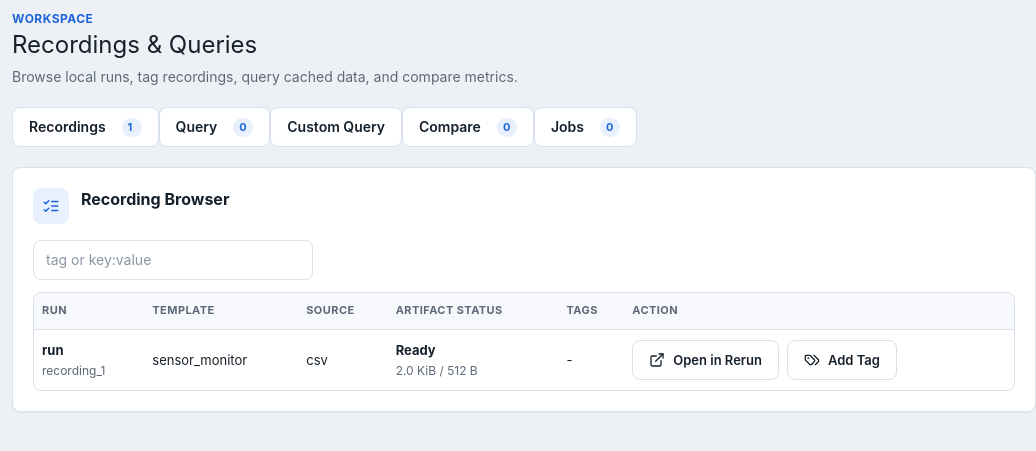
RecordingsQueriesSection › switches between recording, query, compare, and jobs panels
The width and height of the screenshot is (1036, 451).
Expected: the heading "Recording Browser" is shown, [81, 188, 229, 212]
Click the tab "Query 0" at (214,127), box [159, 107, 270, 147]
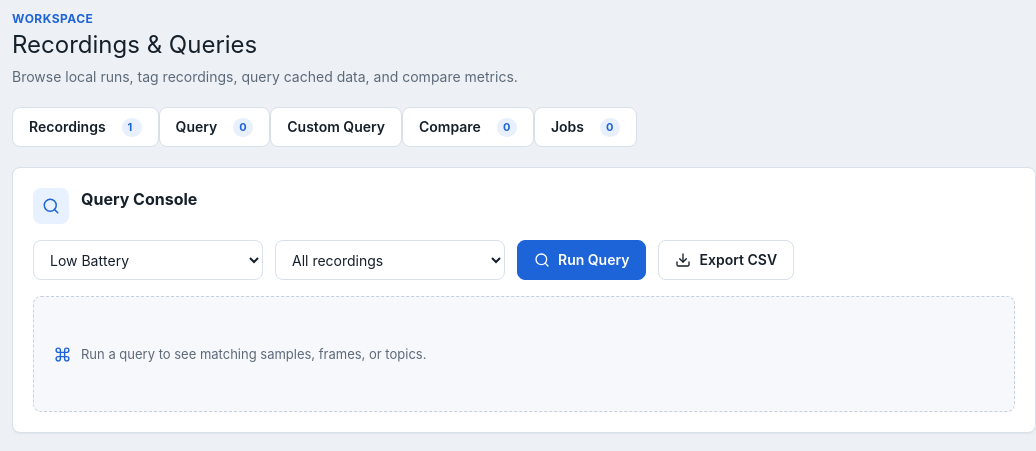
Result: the heading "Query Console" is shown at [81, 188, 197, 212]
Result: the button "Run Query" is enabled at [517, 240, 646, 280]
Click the tab "Compare 0" at (468,127), box [402, 107, 534, 147]
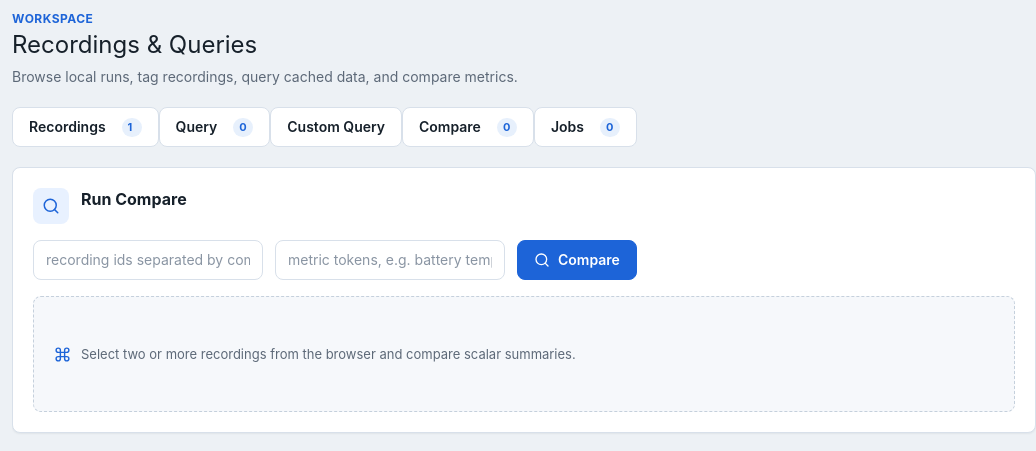
Result: the heading "Run Compare" is shown at [81, 188, 187, 212]
Click the tab "Jobs 0" at (585,127), box [534, 107, 637, 147]
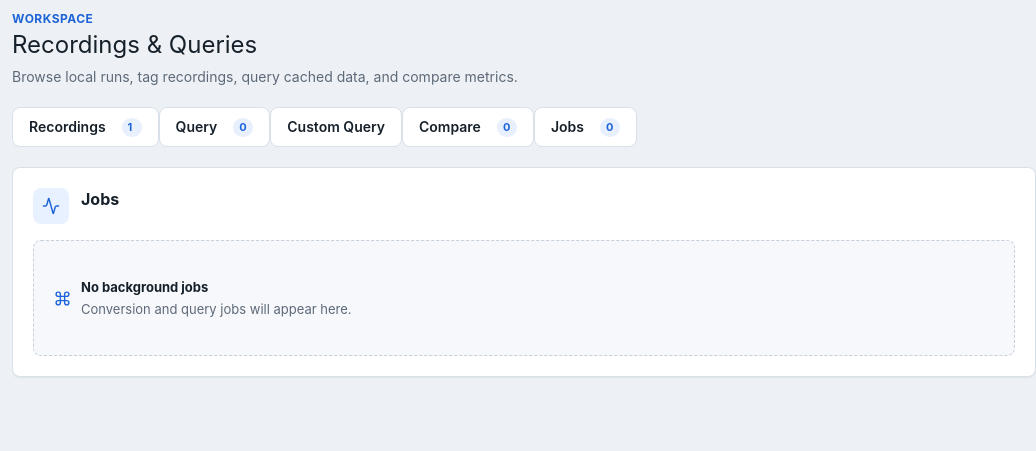
Result: the text "Conversion and query jobs will appear here." is shown at [81, 301, 352, 317]
